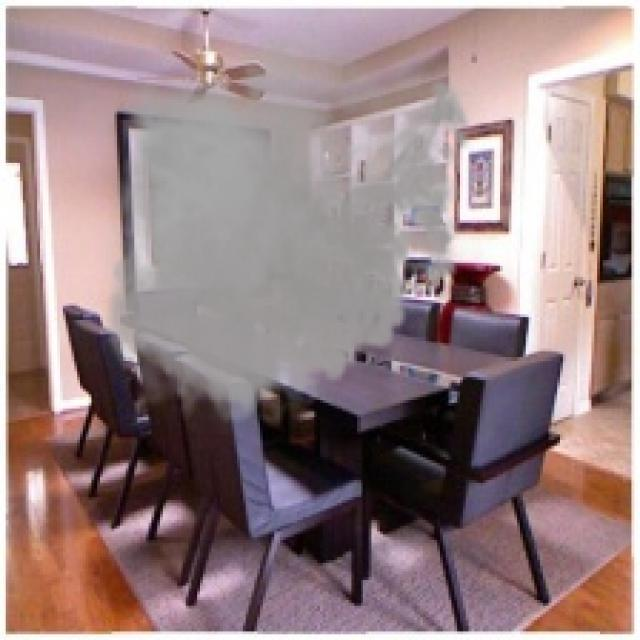Smoke: (91, 12, 483, 437)
